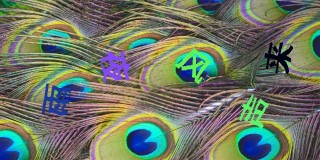声: (238, 93, 270, 129)
夜: (101, 48, 130, 85)
来: (263, 39, 293, 75)
雨: (41, 83, 70, 117)
风: (176, 46, 210, 85)
